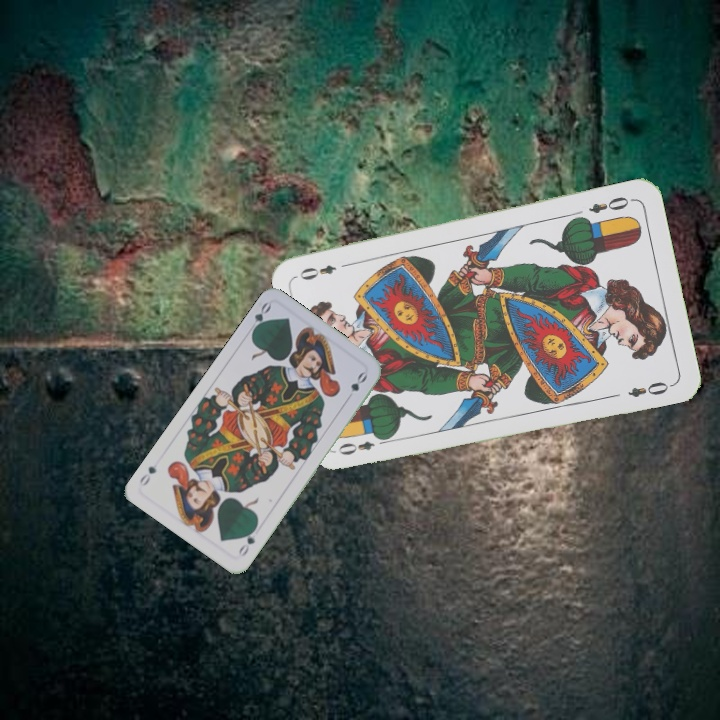EO: (334, 432, 392, 458), (585, 192, 636, 216)
GO: (244, 298, 274, 337), (234, 522, 259, 559)
